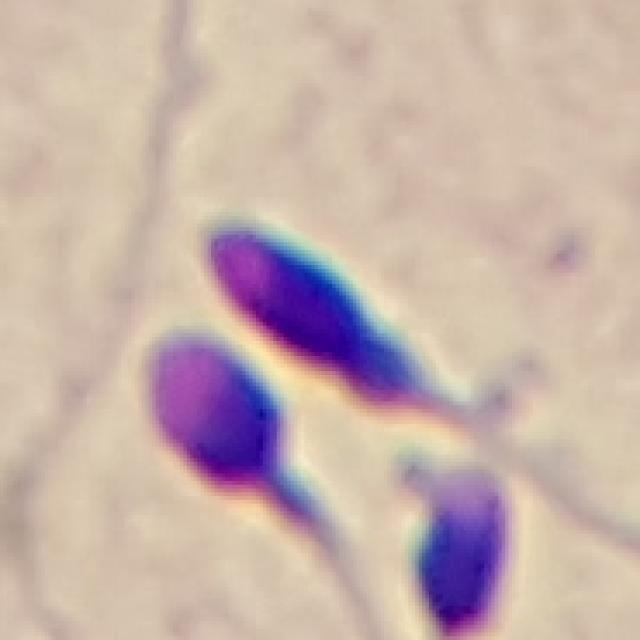abnormal sperm: (203, 219, 511, 452)
normal sperm: (145, 327, 354, 585)
